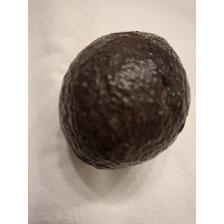Avocado: (55, 26, 193, 174)
